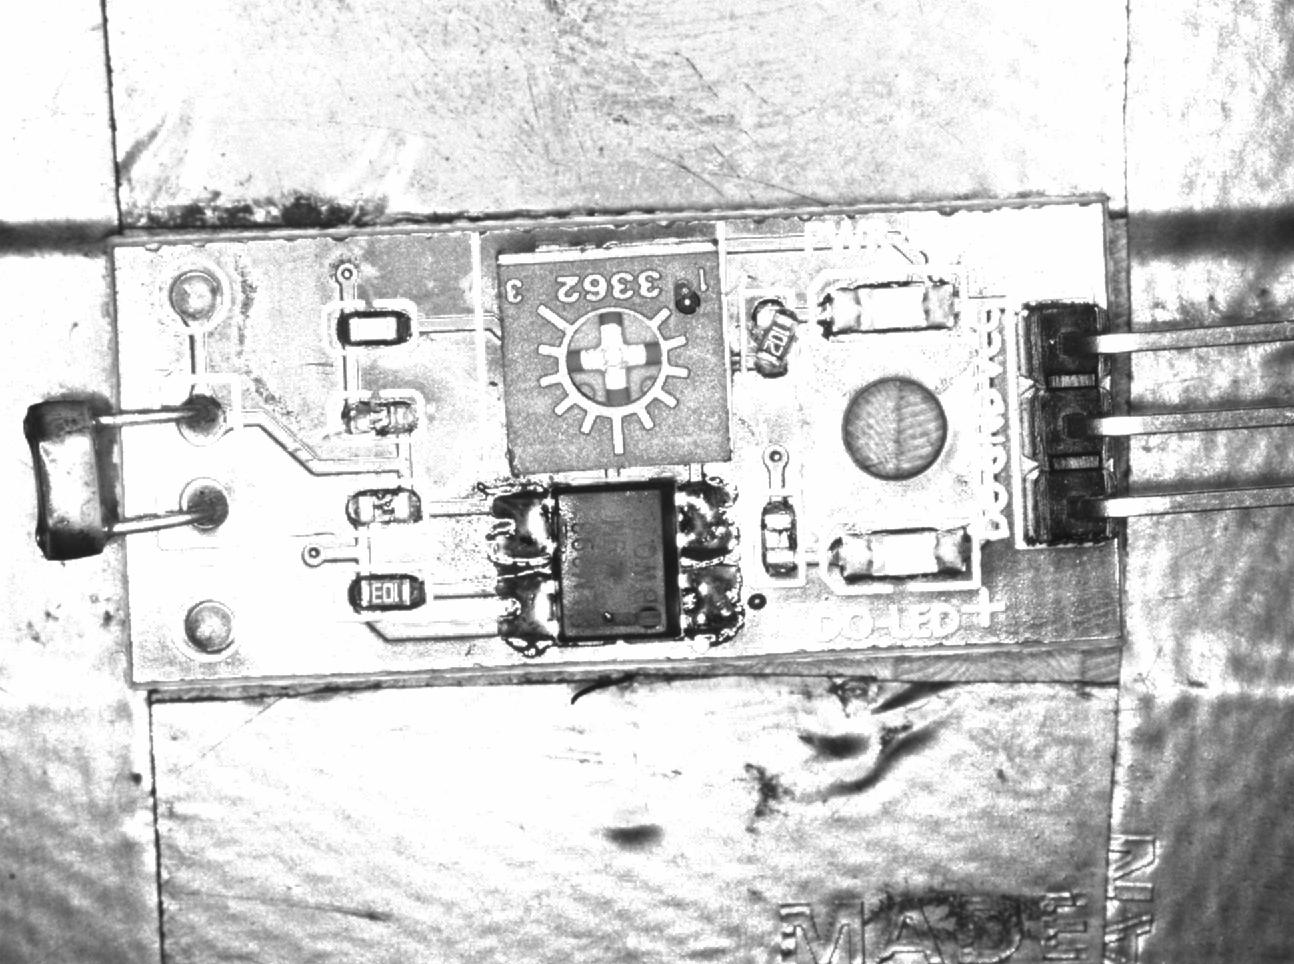bridge: (671, 564, 753, 644), (481, 485, 555, 568), (673, 482, 747, 554), (488, 576, 561, 644)
lifted: (741, 294, 801, 384)
miss: (757, 491, 806, 587), (328, 392, 426, 439), (333, 483, 426, 530)
ok: (337, 570, 435, 617), (324, 302, 417, 349)
